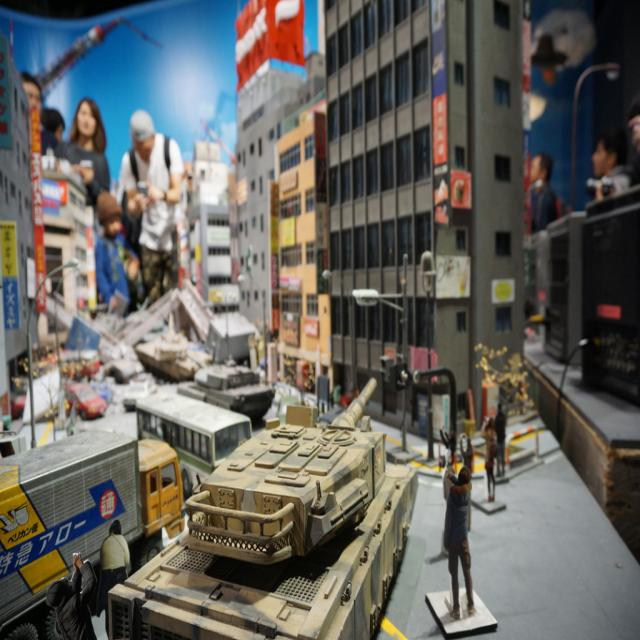tank: (106, 374, 419, 638), (178, 300, 274, 422)
